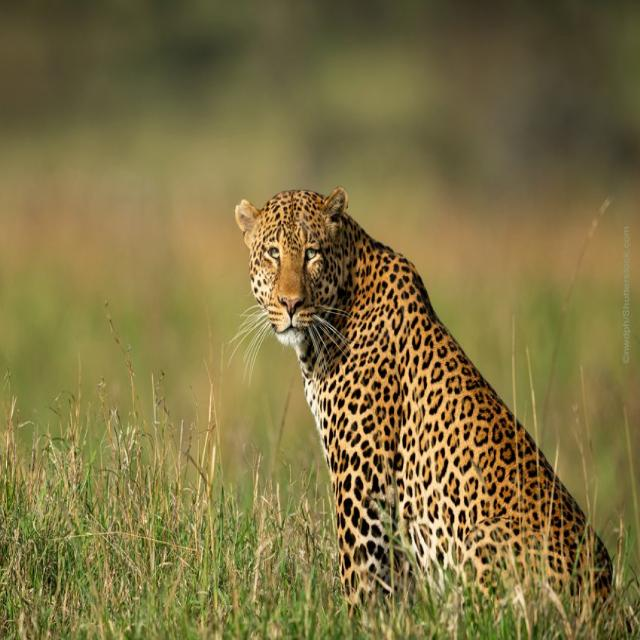Leopard: (232, 188, 615, 600)
